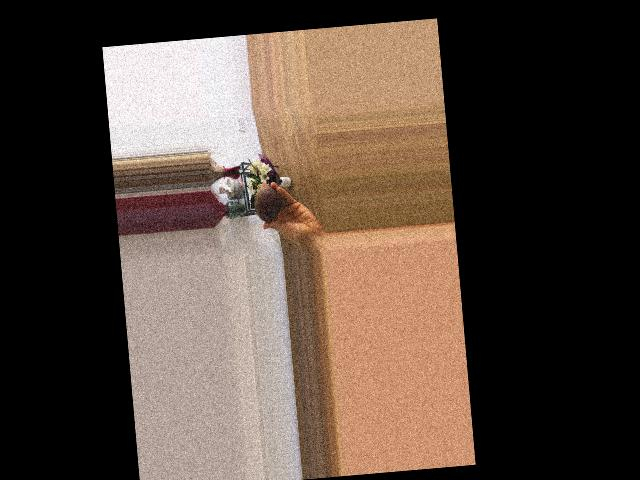beet: (249, 182, 300, 222)
